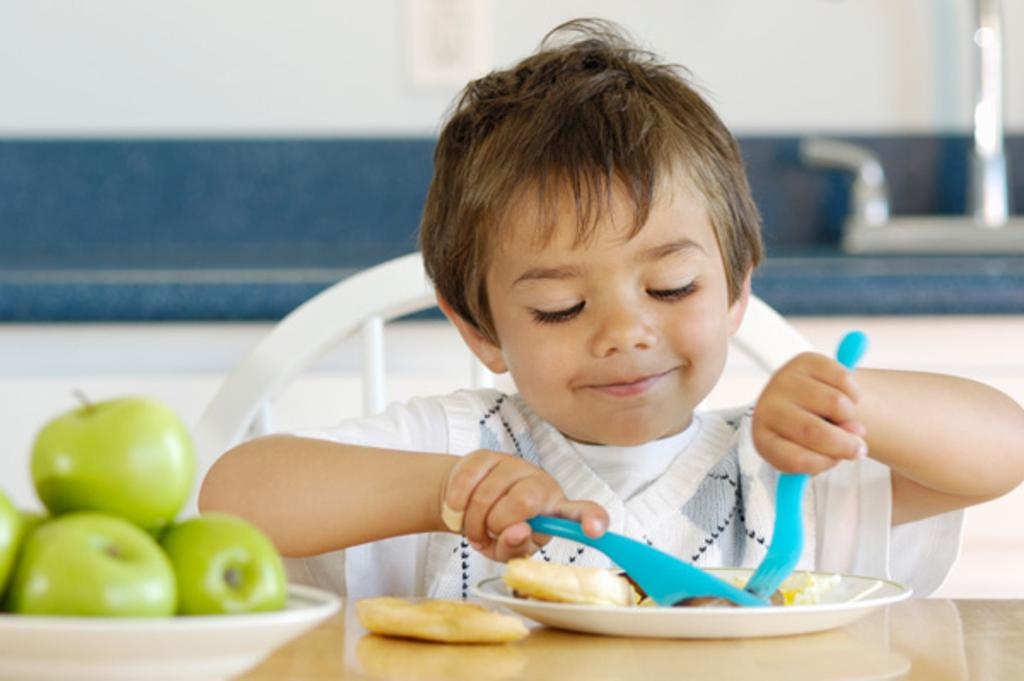face: (486, 164, 730, 446)
